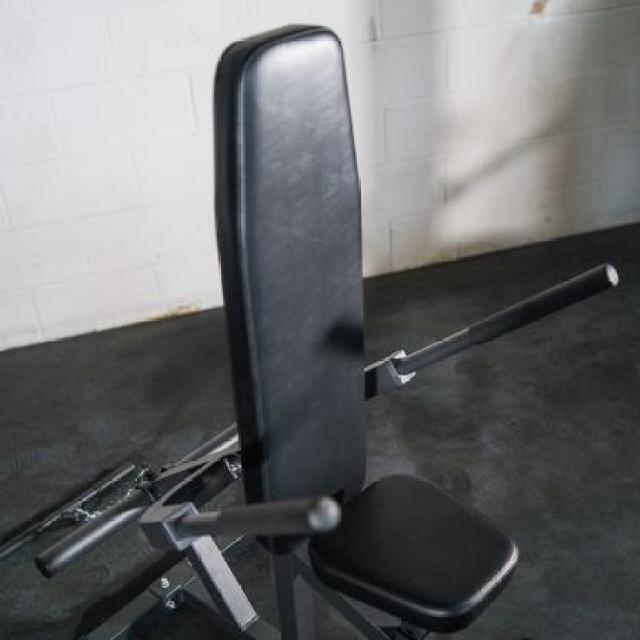seated dip machine: (41, 24, 620, 640)
